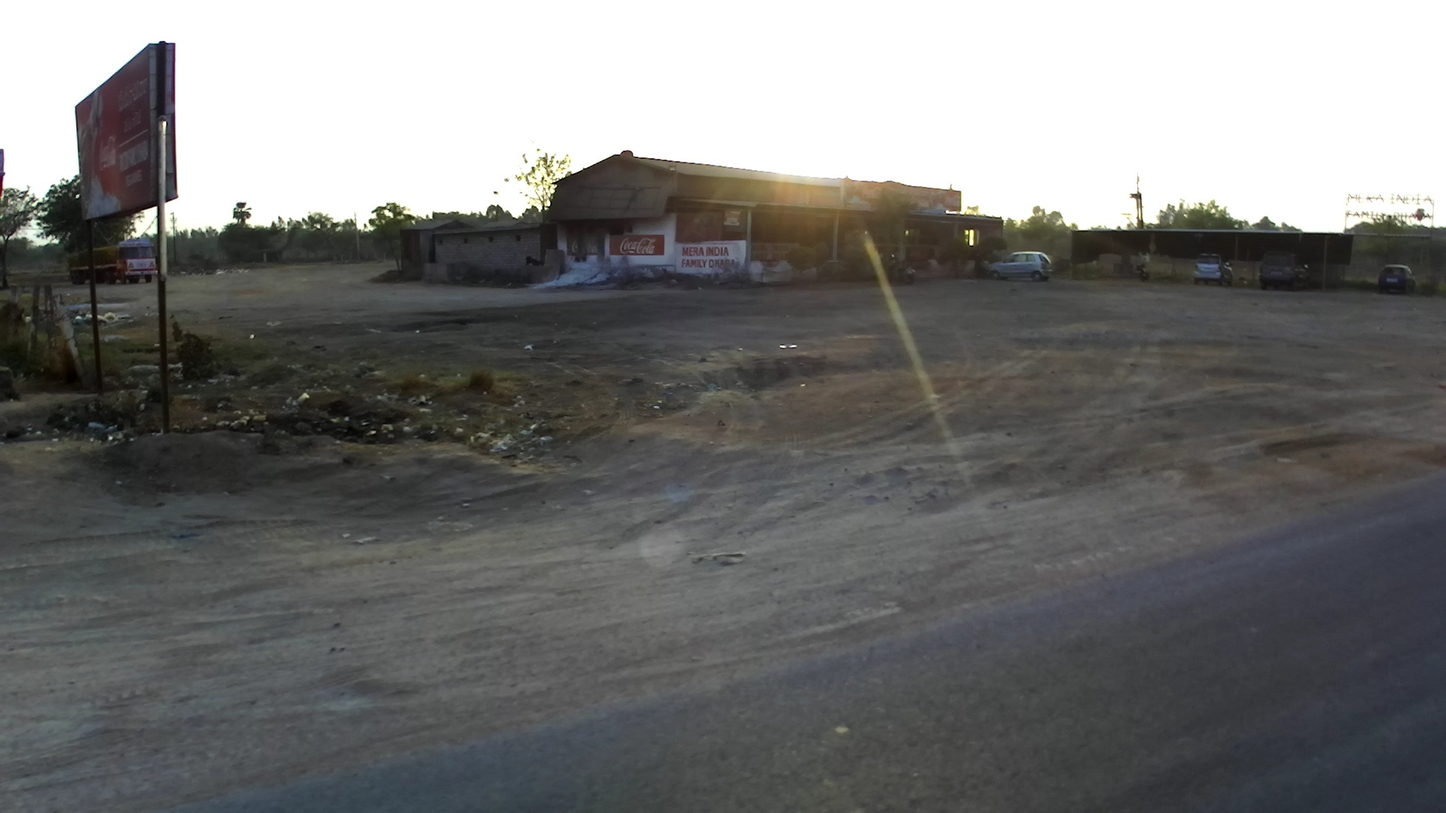car: (1258, 248, 1311, 295), (985, 250, 1055, 282), (1191, 250, 1234, 288), (1376, 262, 1418, 295)
motorcycle: (883, 251, 915, 289), (1133, 260, 1149, 283)
truck: (66, 236, 159, 289)
